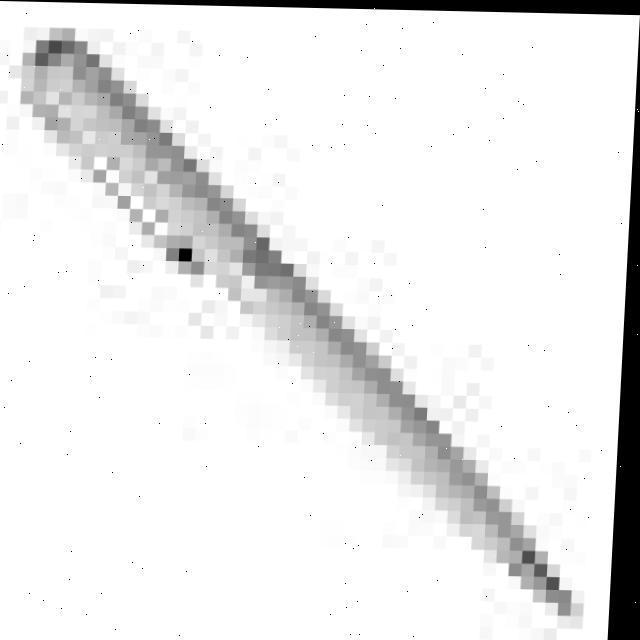Pen - Non Recyclable: (0, 26, 600, 625)
